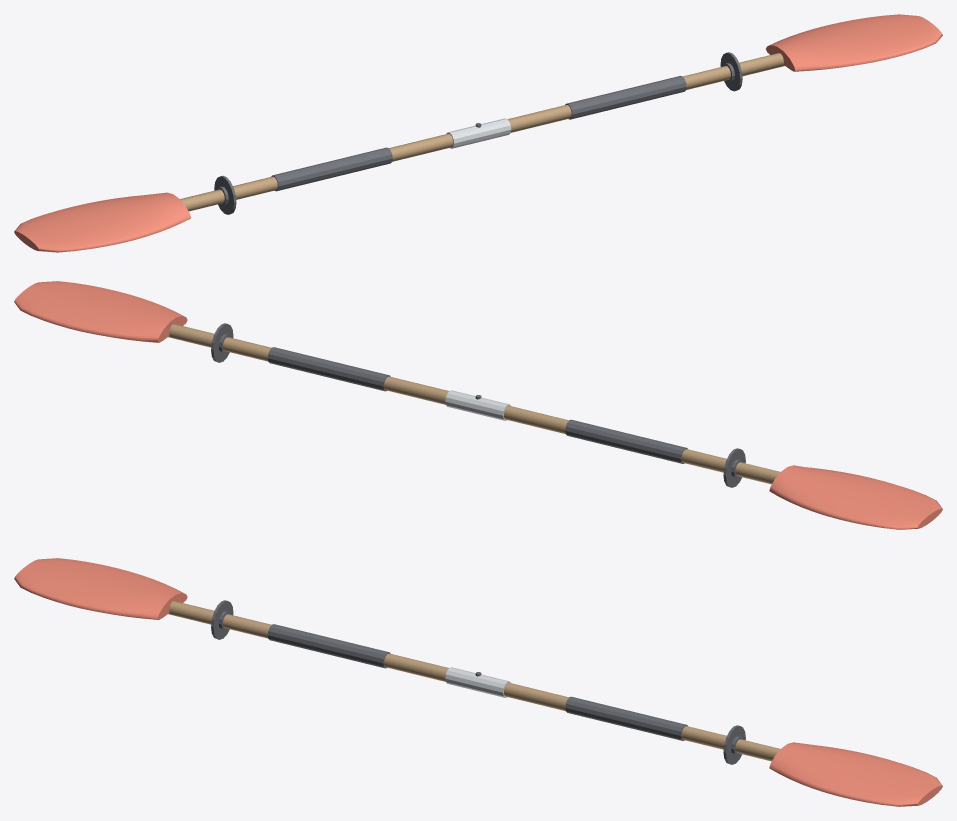
The model's file is beach-surf-and-paddle-kit-kayak-paddle-80e6fa3b__39422.glb.
3 renders of one model, top to bottom at view 1: azimuth 30°, elevation 25°; view 2: azimuth 150°, elevation 25°; view 3: azimuth 330°, elevation 25°, orthographic.
Parts seen in each view (by area): view 1: kayak-paddle-coral, kayak-paddle-charcoal, kayak-paddle-timber, kayak-paddle-steel; view 2: kayak-paddle-coral, kayak-paddle-charcoal, kayak-paddle-timber, kayak-paddle-steel; view 3: kayak-paddle-coral, kayak-paddle-charcoal, kayak-paddle-timber, kayak-paddle-steel.
Boxes of the visible parts, <box> form: kayak-paddle-coral: <box>14,14,942,252</box>; kayak-paddle-charcoal: <box>214,52,742,214</box>; kayak-paddle-timber: <box>180,53,784,211</box>; kayak-paddle-steel: <box>446,118,511,148</box>; kayak-paddle-coral: <box>14,281,942,529</box>; kayak-paddle-charcoal: <box>211,323,745,487</box>; kayak-paddle-timber: <box>168,324,780,484</box>; kayak-paddle-steel: <box>445,390,510,420</box>; kayak-paddle-coral: <box>14,558,942,806</box>; kayak-paddle-charcoal: <box>211,600,745,764</box>; kayak-paddle-timber: <box>168,601,780,761</box>; kayak-paddle-steel: <box>445,667,510,697</box>.
Bounding box in the file's own units: 2.2 × 0.084 × 0.2229.
